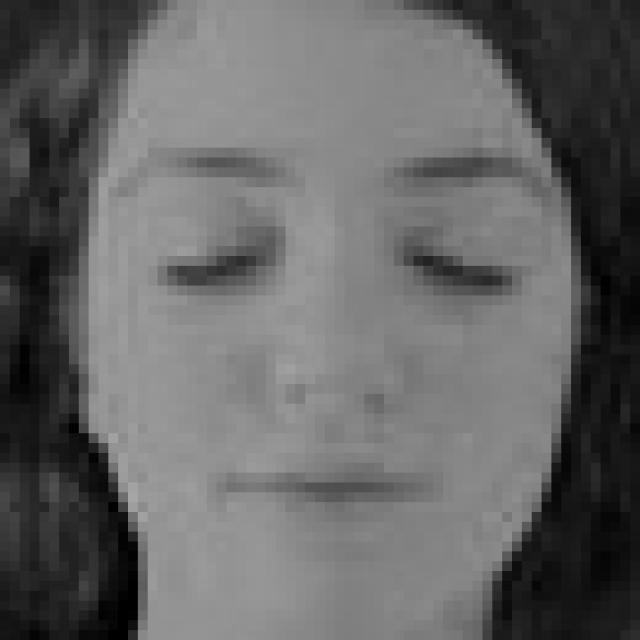real: (74, 7, 580, 621), (132, 196, 524, 320)
